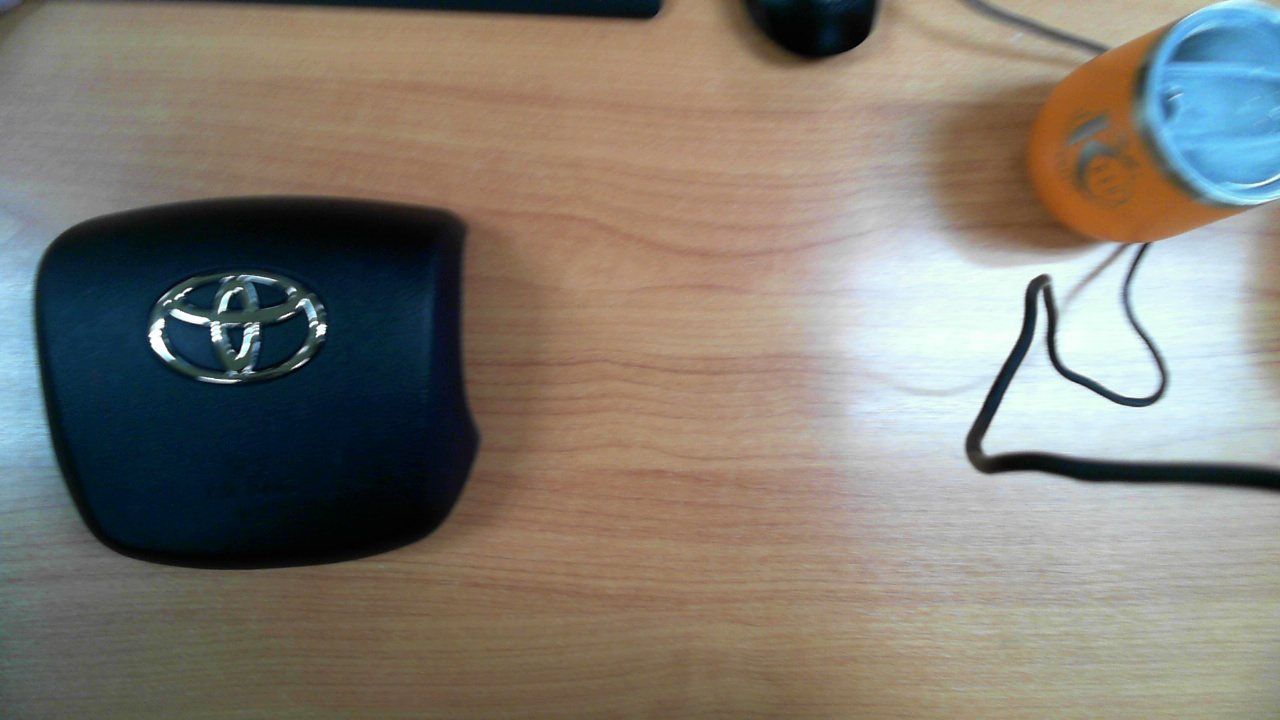Airbag: (32, 193, 481, 570)
Toyota: (148, 272, 327, 383)
